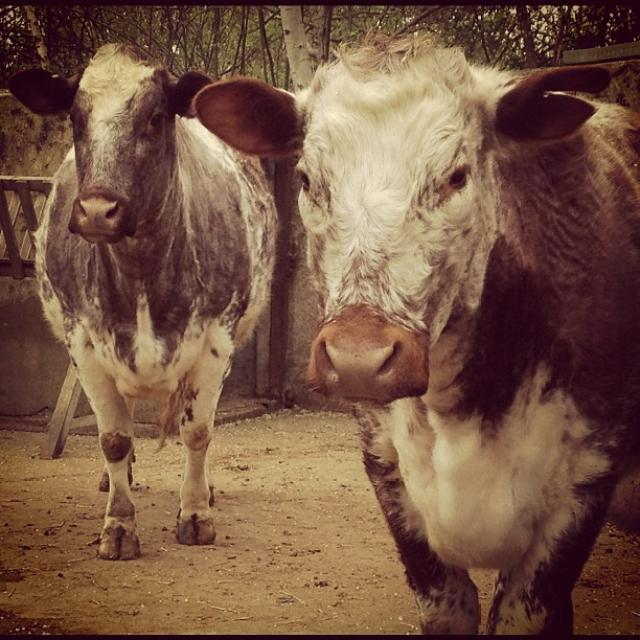cow: (191, 25, 639, 629), (33, 39, 279, 556)
